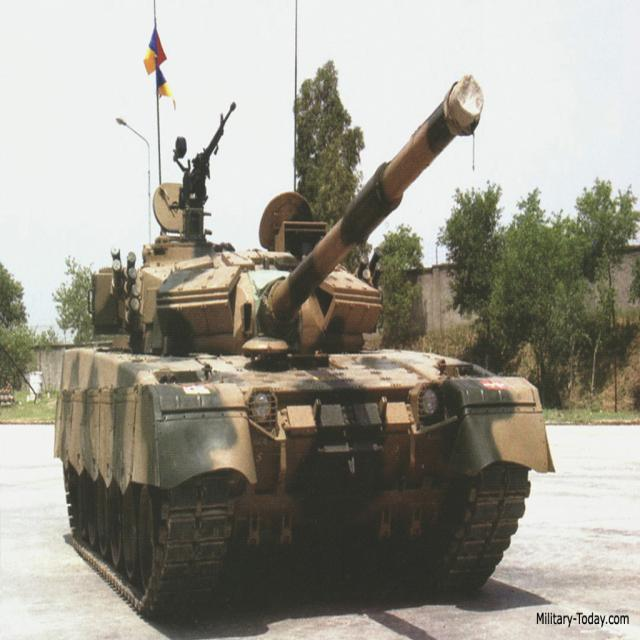Tank: (61, 92, 549, 580)
